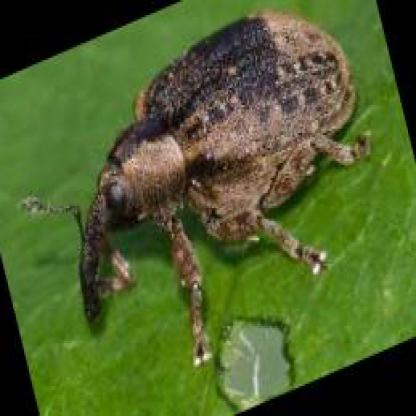ash weevil: (82, 14, 372, 367)
